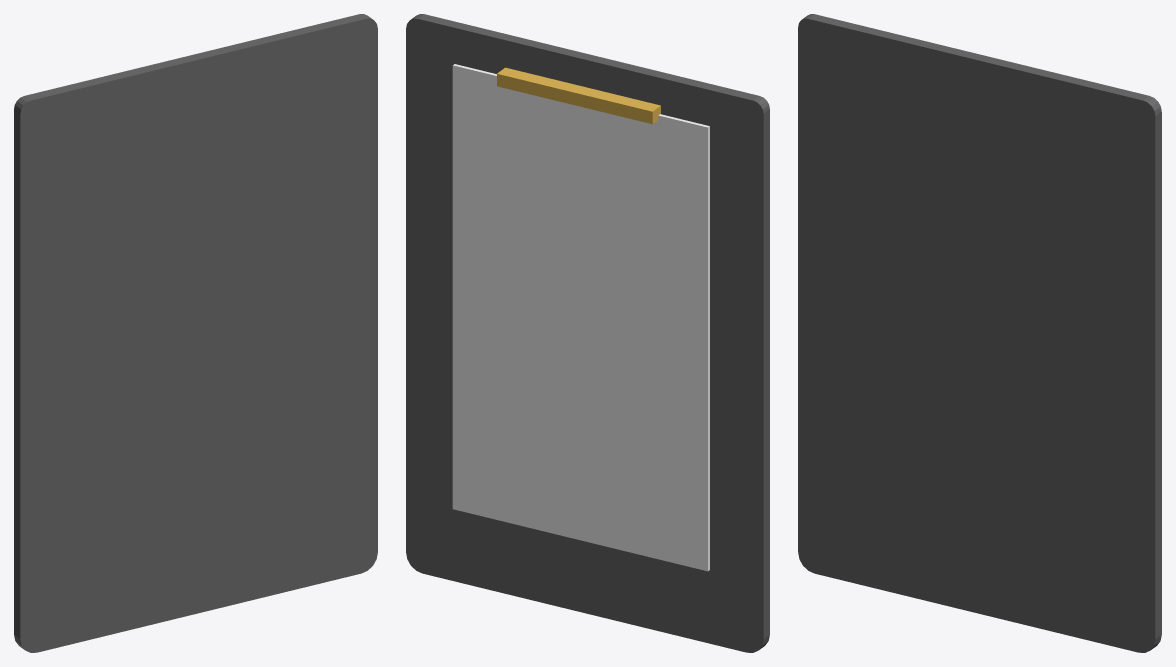
The model's file is ClipBoard.fbx.
The picture shows the model from 3 angles, left to right: view 1: azimuth 30°, elevation 25°; view 2: azimuth 150°, elevation 25°; view 3: azimuth 330°, elevation 25°; orthographic projection.
Visible parts, largest first — view 1: Body; view 2: Paper, Body, Head; view 3: Body.
Boxes of the visible parts, <box> form: Body: <box>14,14,377,652</box>; Paper: <box>452,64,709,571</box>; Body: <box>406,14,769,652</box>; Head: <box>497,67,660,124</box>; Body: <box>798,14,1161,652</box>.
Size of the model in its own units: 88.39 by 131 by 6.82.
